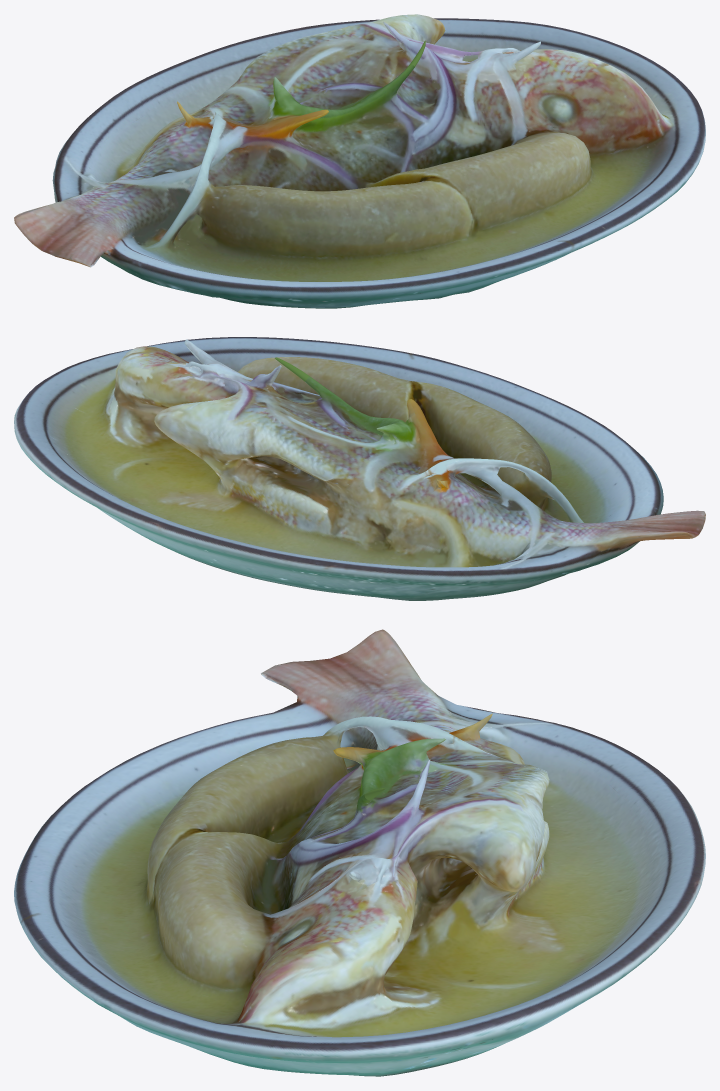
File: Snapper_Piman_Bouk.glb
3 views of the same model, one above another, from view 1: azimuth 30°, elevation 25°; view 2: azimuth 150°, elevation 25°; view 3: azimuth 270°, elevation 25° (orthographic). The views are drawn at different scales.
Parts seen in each view (by area): view 1: SnapperPimanBouk1; view 2: SnapperPimanBouk1; view 3: SnapperPimanBouk1.
Part boxes in pixels (<box>): SnapperPimanBouk1: <box>14,14,705,308</box>; SnapperPimanBouk1: <box>14,337,705,600</box>; SnapperPimanBouk1: <box>14,629,705,1076</box>.
Bounding box in the file's own units: 11.4 × 2.88 × 8.19.
Materials: 1 (1 with a texture image).
